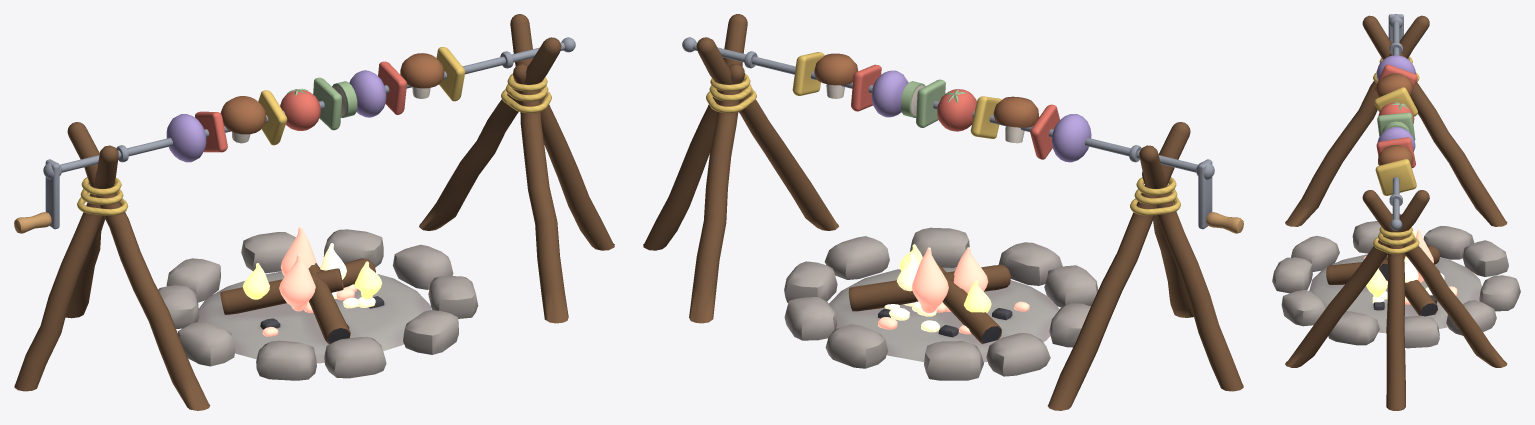
Rendered from cooking-spit.glb.
3 views of the same model, side by side, from view 1: azimuth 30°, elevation 25°; view 2: azimuth 150°, elevation 25°; view 3: azimuth 270°, elevation 25° (orthographic). The views are drawn at different scales.
Parts seen in each view (by area): view 1: cooking-spit_body, cooking-spit_skewer, cooking-spit_glow; view 2: cooking-spit_body, cooking-spit_skewer, cooking-spit_glow; view 3: cooking-spit_body, cooking-spit_skewer, cooking-spit_glow.
Boxes of the visible parts, left/top/right/bottom form: cooking-spit_body: left=14, top=14, right=614, bottom=410; cooking-spit_skewer: left=14, top=37, right=575, bottom=233; cooking-spit_glow: left=242, top=226, right=382, bottom=336; cooking-spit_body: left=643, top=14, right=1243, bottom=410; cooking-spit_skewer: left=682, top=37, right=1243, bottom=233; cooking-spit_glow: left=878, top=244, right=1029, bottom=334; cooking-spit_body: left=1272, top=15, right=1520, bottom=410; cooking-spit_skewer: left=1374, top=14, right=1417, bottom=230; cooking-spit_glow: left=1363, top=229, right=1457, bottom=304.
Bounding box in the file's own units: 1.46 × 0.5496 × 0.6526.
Materials: 5 (2 with a texture image).
